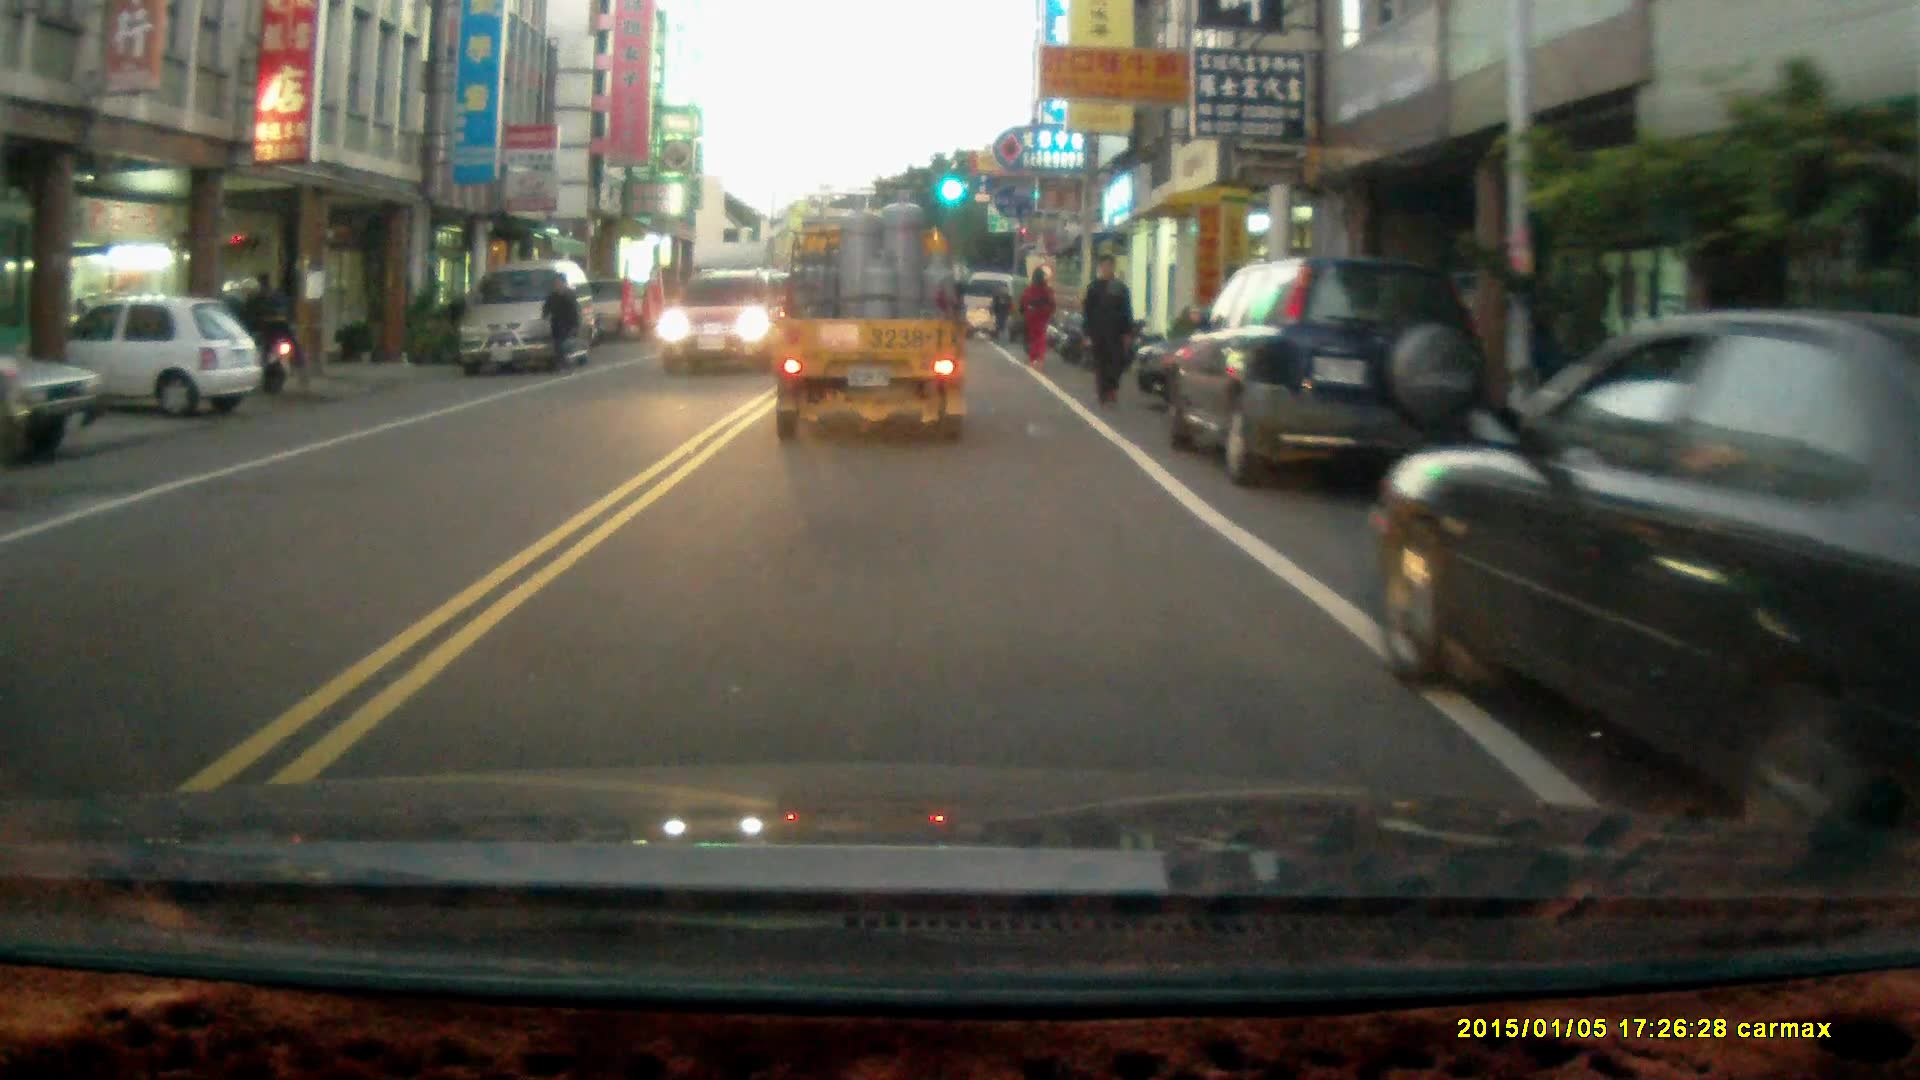pedestrian: (1079, 253, 1138, 414), (256, 267, 302, 394), (539, 272, 582, 377), (1017, 265, 1055, 369), (987, 286, 1014, 346)
rider: (204, 279, 290, 399)
vehicle: (1365, 311, 1920, 812), (1170, 257, 1491, 490), (773, 193, 971, 446), (5, 294, 251, 419), (458, 260, 596, 373), (656, 277, 781, 379)
